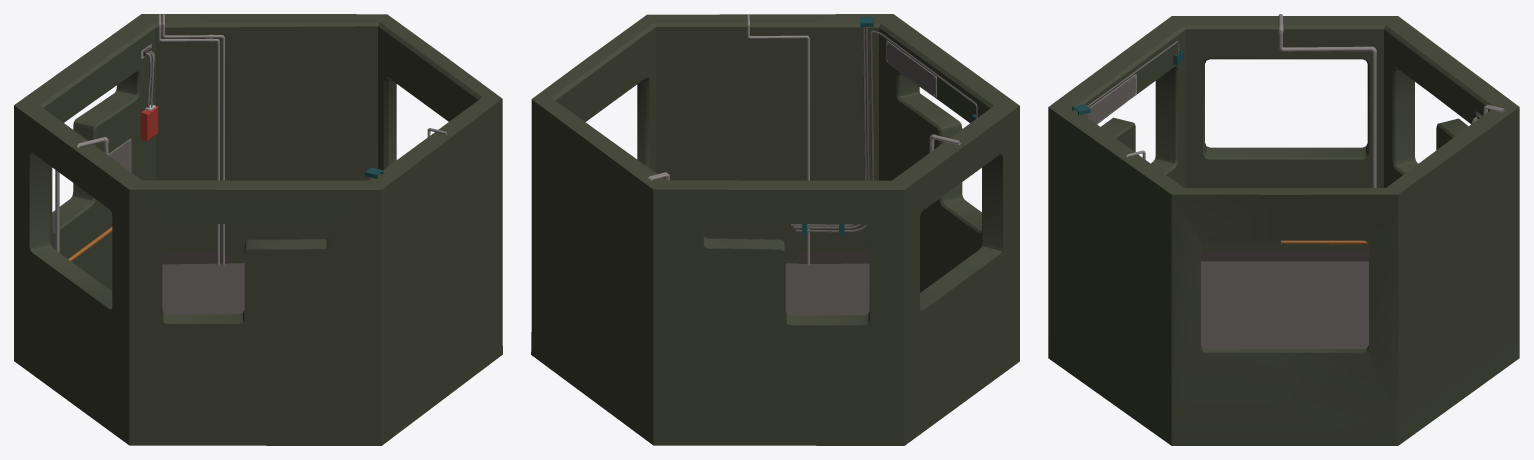
The model's file is LabRoom_Walls_Test.fbx.
3 views of the same model, side by side, from view 1: azimuth 30°, elevation 25°; view 2: azimuth 150°, elevation 25°; view 3: azimuth 270°, elevation 25° (orthographic).
Visible parts, largest first — view 1: roomShell; view 2: roomShell; view 3: roomShell.
Part boxes in pixels (x1,y1,x2,y2): roomShell: (14, 14, 502, 445); roomShell: (531, 14, 1019, 445); roomShell: (1048, 14, 1519, 445).
Size of the model in its own units: 3.52 by 2.35 by 3.93.
